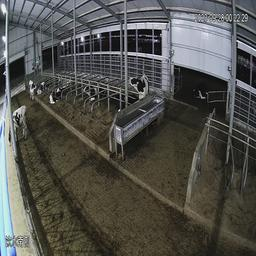cow: (8, 104, 30, 148), (186, 80, 208, 108), (131, 70, 150, 101), (48, 82, 68, 106), (80, 78, 98, 100), (27, 77, 37, 103), (38, 75, 47, 98)
